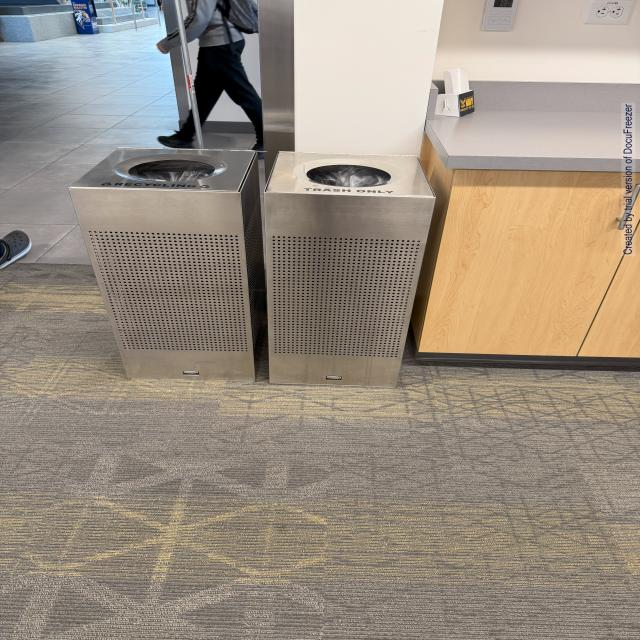Trash bin: (58, 140, 266, 440), (270, 140, 437, 416)
